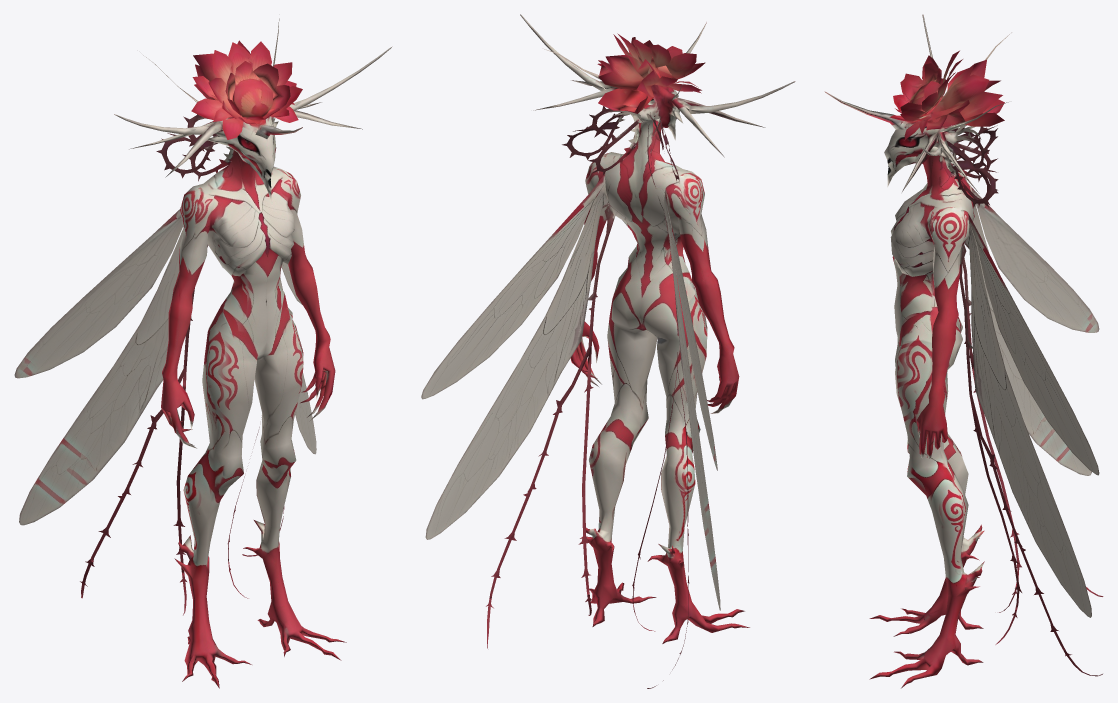
The model's file is ivory_dragonfly_rtp.glb.
The picture shows the model from 3 angles, left to right: view 1: azimuth 30°, elevation 25°; view 2: azimuth 150°, elevation 25°; view 3: azimuth 270°, elevation 25°; orthographic projection.
Parts seen in each view (by area): view 1: tripo_node_b2857864-c432-423c-8845-03c5dc158b23; view 2: tripo_node_b2857864-c432-423c-8845-03c5dc158b23; view 3: tripo_node_b2857864-c432-423c-8845-03c5dc158b23.
Part boxes in pixels (x1,y1,x2,y2): tripo_node_b2857864-c432-423c-8845-03c5dc158b23: [14, 18, 392, 688]; tripo_node_b2857864-c432-423c-8845-03c5dc158b23: [421, 14, 795, 688]; tripo_node_b2857864-c432-423c-8845-03c5dc158b23: [824, 14, 1103, 688].
Bounding box in the file's own units: 0.5229 × 0.9995 × 0.4272.
Materials: 1 (1 with a texture image).
